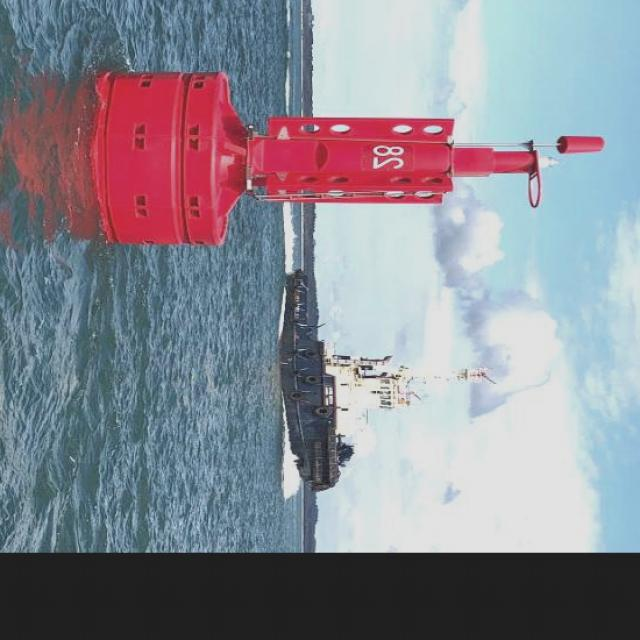ship: (268, 270, 490, 496)
